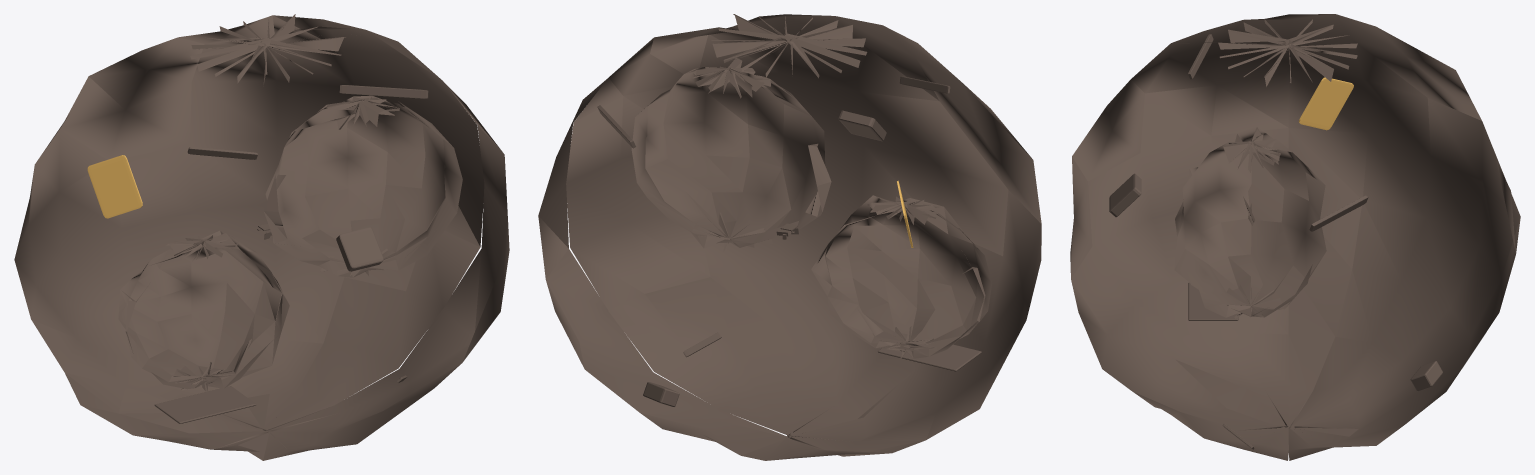
File: _place_asteroid_rock_a_elite_export.glb
3 views of the same model, side by side, from view 1: azimuth 30°, elevation 25°; view 2: azimuth 150°, elevation 25°; view 3: azimuth 270°, elevation 25° (orthographic). The views are drawn at different scales.
Visible parts, largest first — view 1: place_asteroid_rock_a_Material_Hull_Merged, DET_ore_vein, DET_dust_lee, DET_impact_crater, DET_mining_seam_a, DET_mining_seam_b; view 2: place_asteroid_rock_a_Material_Hull_Merged, DET_dust_lee, DET_impact_crater, DET_fracture_shard; view 3: place_asteroid_rock_a_Material_Hull_Merged, DET_ore_vein, DET_impact_crater, DET_dust_lee, DET_fracture_shard, DET_mining_seam_a.
Boxes of the visible parts, bbox=[...] form: place_asteroid_rock_a_Material_Hull_Merged: bbox=[14, 14, 509, 460]; DET_ore_vein: bbox=[87, 155, 142, 218]; DET_dust_lee: bbox=[154, 386, 255, 423]; DET_impact_crater: bbox=[336, 227, 383, 271]; DET_mining_seam_a: bbox=[339, 85, 428, 98]; DET_mining_seam_b: bbox=[187, 147, 257, 159]; place_asteroid_rock_a_Material_Hull_Merged: bbox=[538, 14, 1041, 460]; DET_dust_lee: bbox=[878, 344, 981, 371]; DET_impact_crater: bbox=[838, 110, 886, 141]; DET_fracture_shard: bbox=[643, 382, 679, 406]; place_asteroid_rock_a_Material_Hull_Merged: bbox=[1070, 14, 1520, 460]; DET_ore_vein: bbox=[1298, 77, 1353, 130]; DET_impact_crater: bbox=[1109, 173, 1141, 217]; DET_dust_lee: bbox=[1188, 282, 1238, 320]; DET_fracture_shard: bbox=[1410, 361, 1442, 391]; DET_mining_seam_a: bbox=[1309, 195, 1368, 231].
Size of the model in its own units: 20.06 by 17.09 by 17.93.
